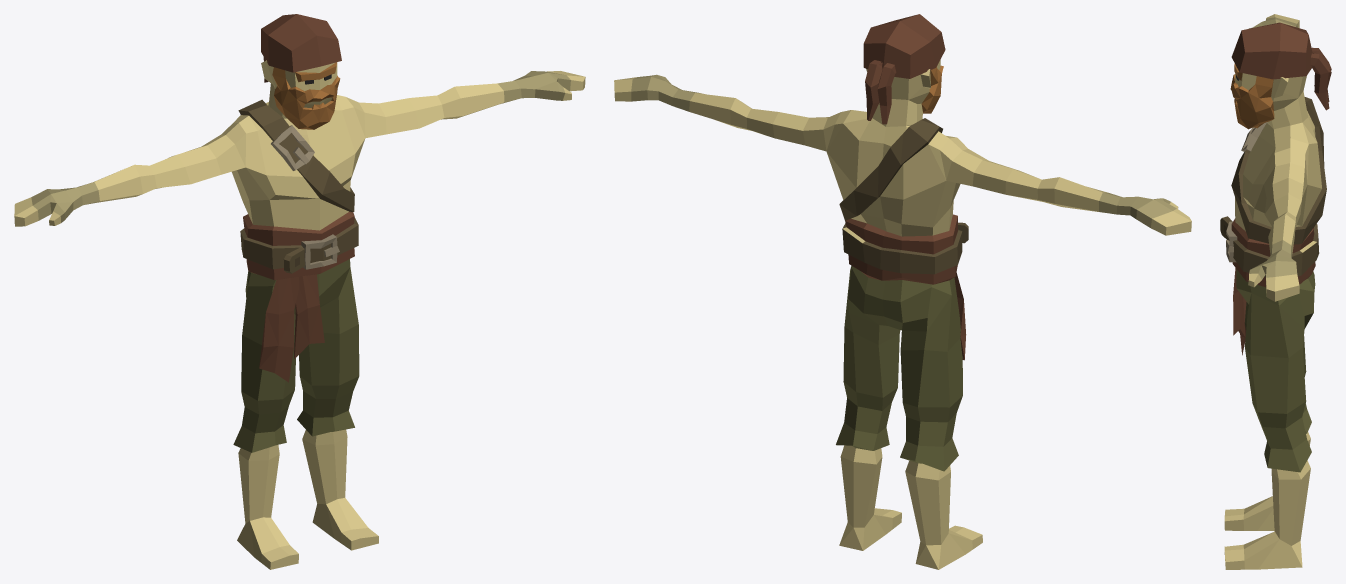
File: Pirate_1.fbx
The picture shows the model from 3 angles, left to right: view 1: azimuth 30°, elevation 25°; view 2: azimuth 150°, elevation 25°; view 3: azimuth 270°, elevation 25°; orthographic projection.
Parts seen in each view (by area): view 1: Pirate_1; view 2: Pirate_1; view 3: Pirate_1.
Part boxes in pixels (x1,y1,x2,y2): Pirate_1: (14,14,585,569); Pirate_1: (614,14,1191,569); Pirate_1: (1220,14,1331,569).
Bounding box in the file's own units: 205 × 179 × 34.71.
